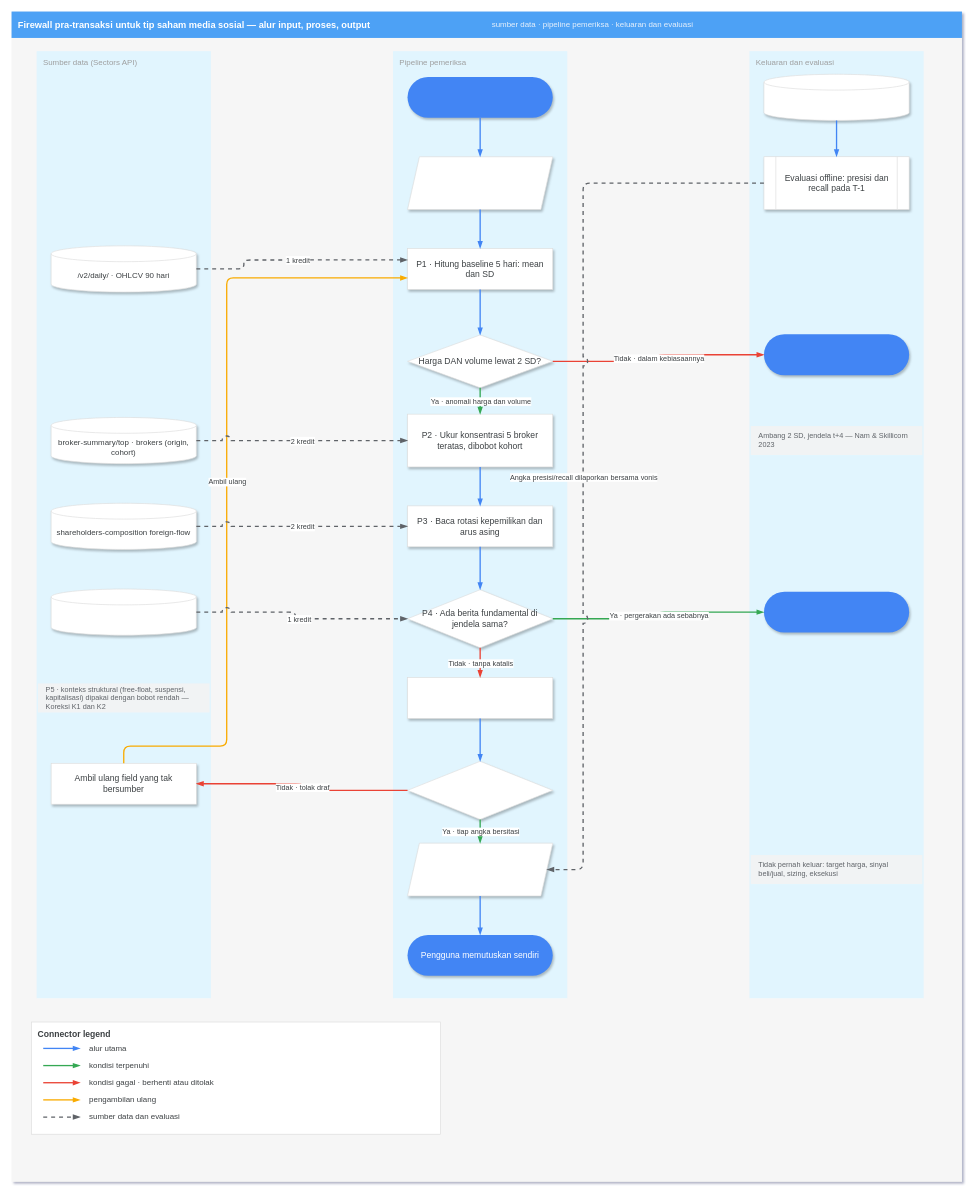
Some shapes in this 977 by 1197 pixel diagram are drawn without their labels. Here are the shapes that lost their labels. From the top down, the centre of each, then its label:
the point at 480,98: Tip saham masuk dari grup chat
the point at 837,98: /v2/suspensions/ · 583 label IDX 'peningkatan harga kumulatif'
the point at 480,183: Input: 1 kode saham (+ teks tip, konteks saja)
the point at 837,355: Tidak ada anomali · berhenti di sini
the point at 124,613: /v2/news/?symbols=
the point at 837,613: Ada katalis · turunkan skor, sebut beritanya
the point at 480,698: P6 · Susun vonis 4 sumbu dengan sitasi
the point at 480,791: Tiap angka punya (endpoint, field)?
the point at 480,870: Output: vonis, 4 paragraf, tabel, daftar sitasi
